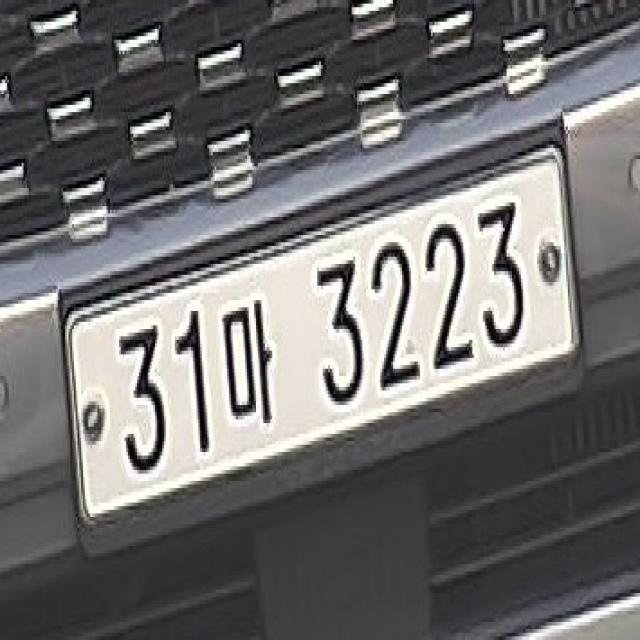1: (175, 311, 211, 456)
2: (422, 214, 476, 372), (369, 239, 422, 394)
3: (117, 318, 173, 474), (314, 246, 366, 412), (478, 196, 528, 354)
license_plate: (62, 138, 582, 532)
ma: (218, 290, 274, 430)
